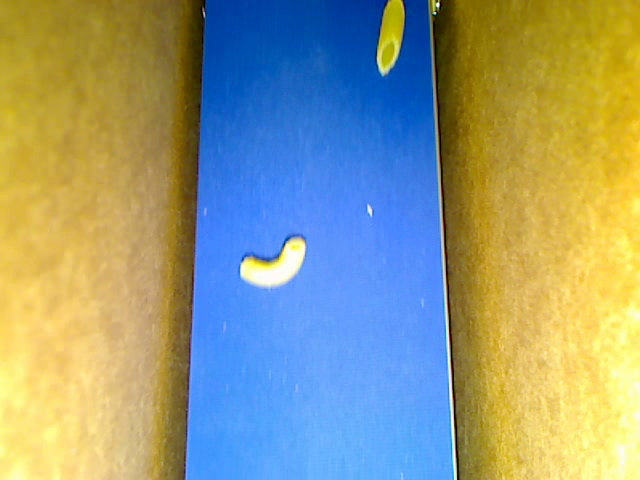elbow: (239, 237, 306, 288)
penne: (376, 1, 405, 76)
